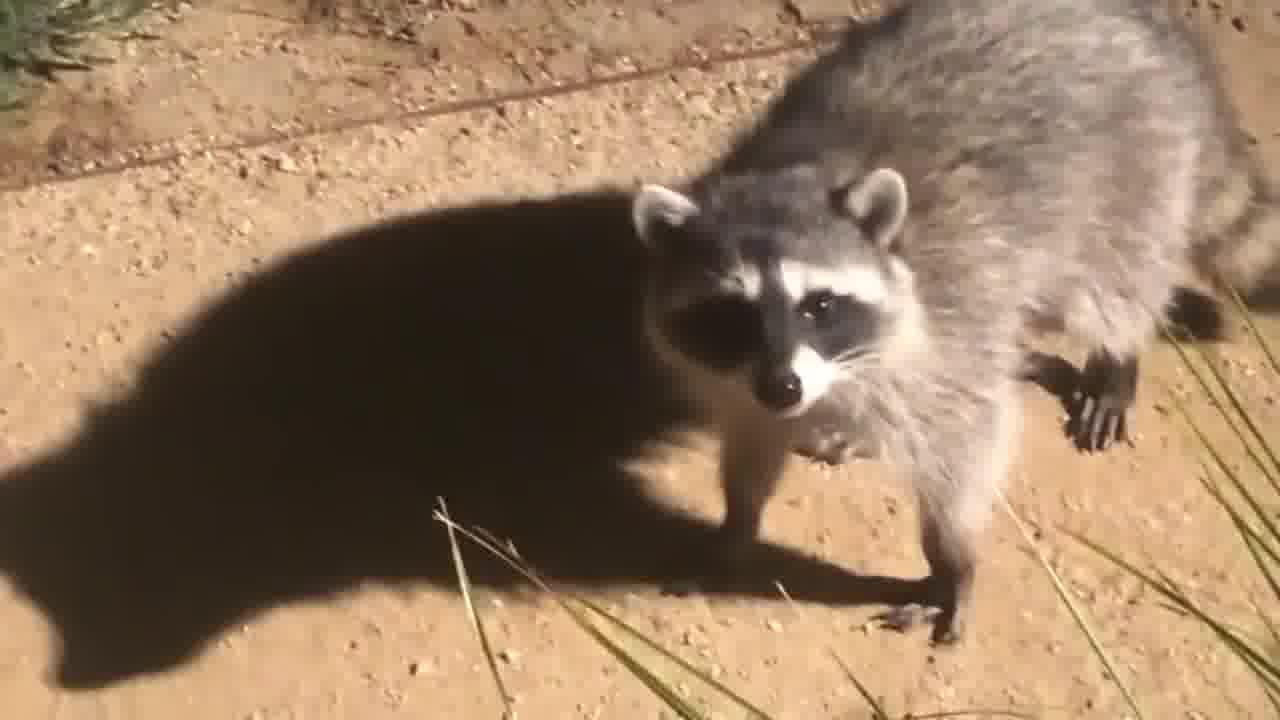raccoon: (611, 0, 1280, 637)
